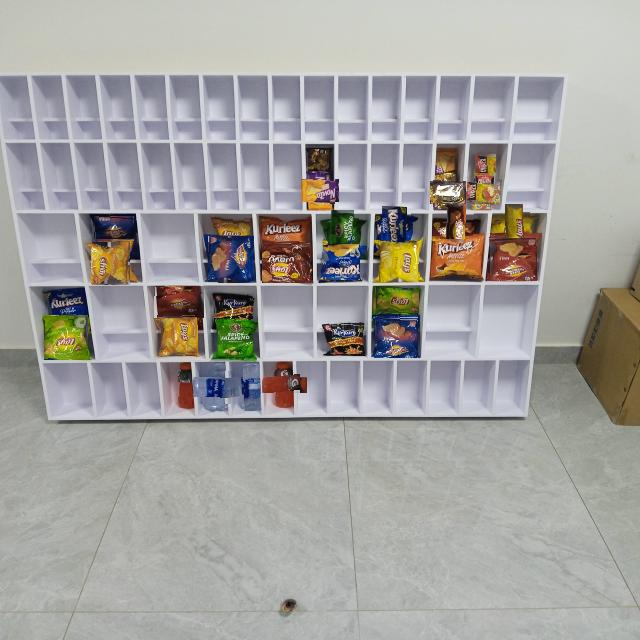Plastic: (208, 236, 254, 283), (490, 237, 538, 281), (44, 315, 89, 360), (432, 239, 481, 279), (262, 243, 310, 283), (374, 316, 418, 358), (91, 242, 132, 284), (379, 242, 420, 282), (154, 286, 204, 318), (159, 318, 198, 356), (218, 321, 254, 361), (322, 322, 366, 354), (322, 244, 360, 280), (374, 288, 419, 314), (262, 217, 309, 241), (378, 210, 411, 244), (440, 211, 474, 244), (200, 370, 233, 404), (327, 214, 359, 247), (213, 294, 253, 320), (498, 209, 530, 241), (46, 289, 84, 315), (93, 215, 134, 239), (304, 175, 335, 206), (268, 370, 300, 400), (433, 178, 463, 208), (242, 364, 260, 411), (470, 179, 497, 206), (178, 363, 194, 408), (214, 216, 250, 235), (437, 149, 457, 174), (308, 148, 329, 171), (476, 153, 496, 174)
